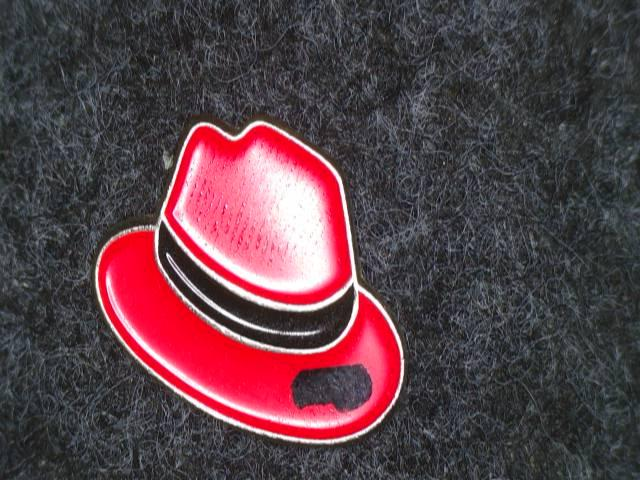Red-Hat: (61, 97, 458, 453)
Scratch: (273, 352, 391, 416)
